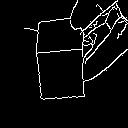cube: (29, 12, 92, 104)
